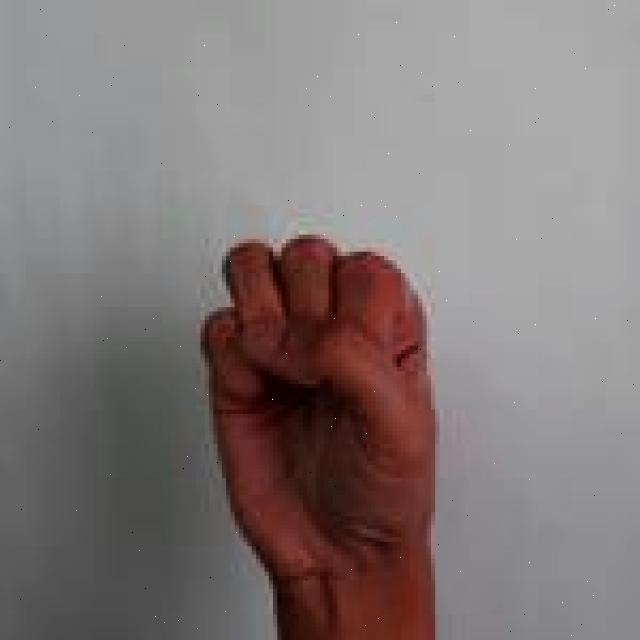S: (201, 228, 443, 640)
